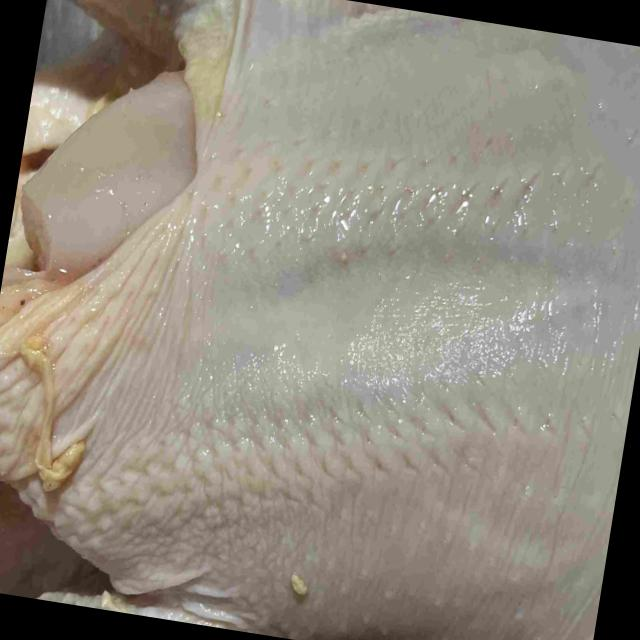breast: (0, 17, 640, 640)
leg: (44, 0, 370, 103)
